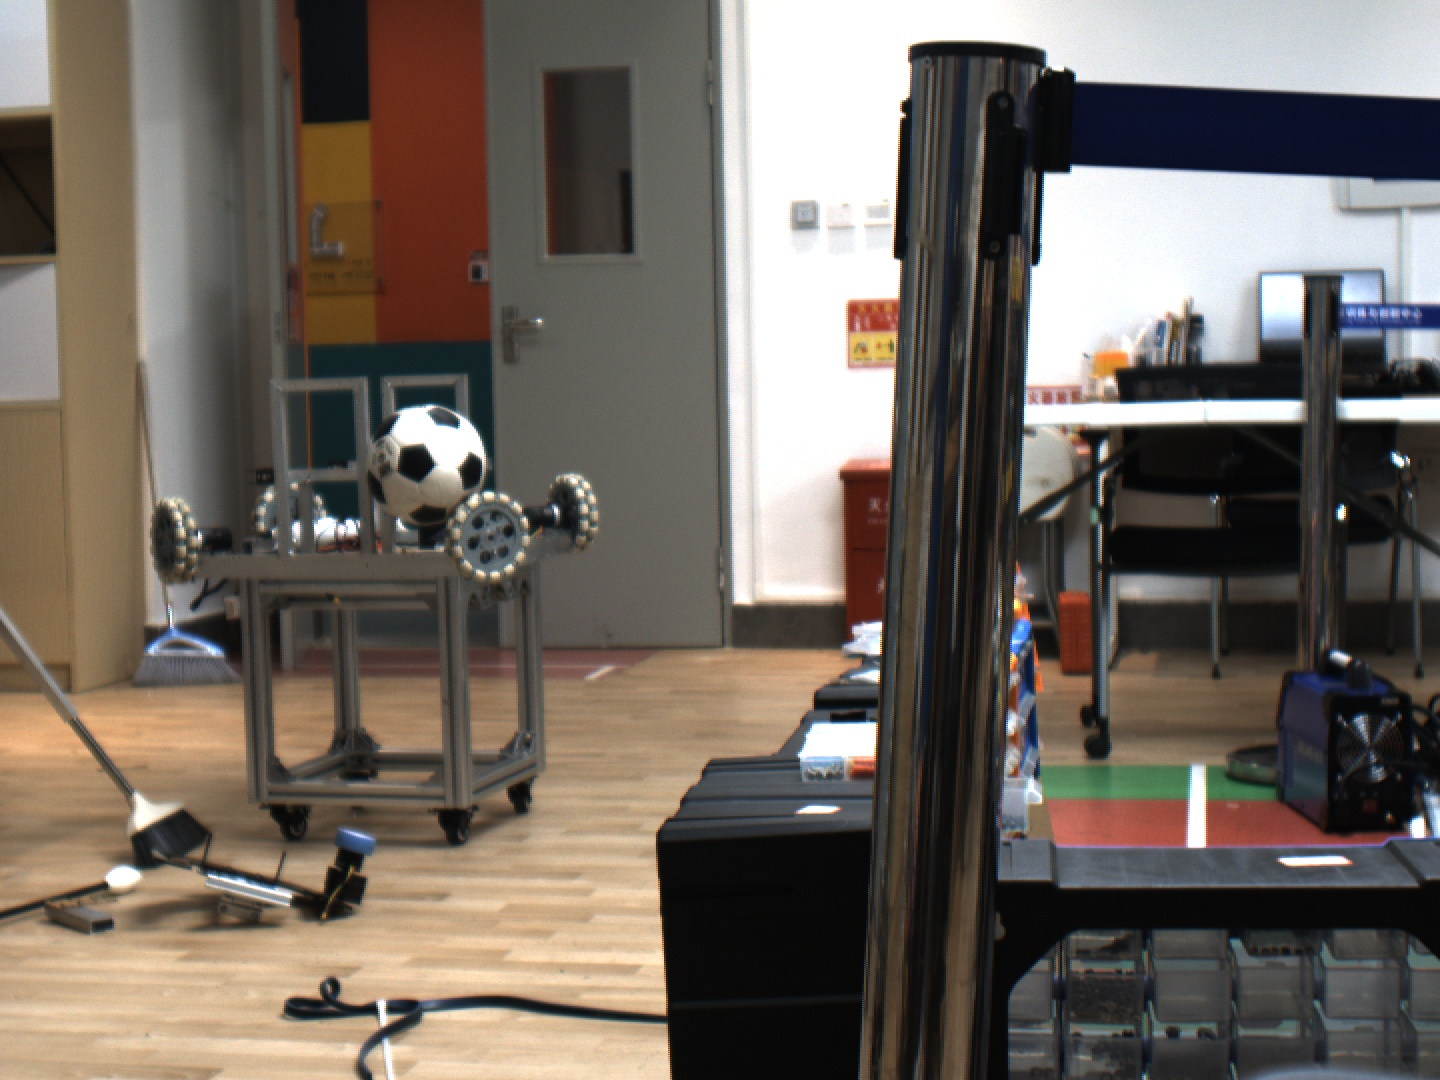ball: (344, 387, 520, 545)
